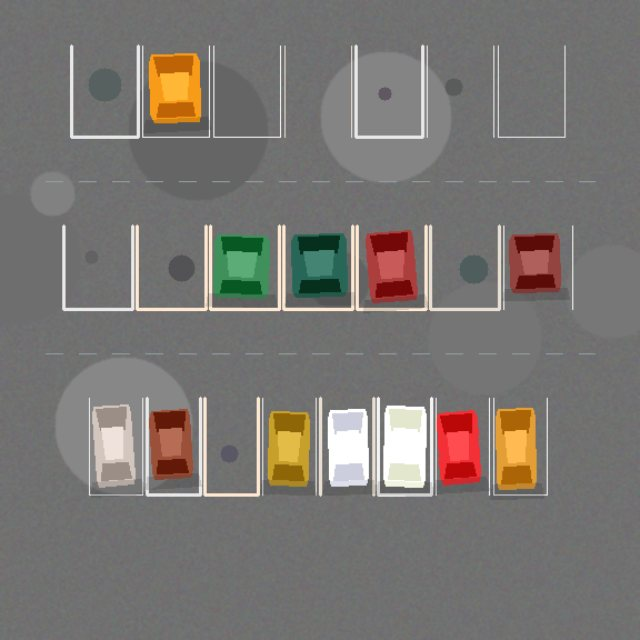space-empty: (71, 46, 138, 137), (213, 46, 280, 137), (284, 46, 351, 137), (356, 46, 422, 137), (427, 46, 493, 137), (498, 46, 564, 137), (63, 226, 132, 309), (137, 226, 206, 309), (430, 226, 499, 309), (204, 398, 258, 494)
space-occupied: (142, 46, 209, 137), (210, 226, 279, 309), (283, 226, 352, 309), (357, 226, 426, 309), (503, 226, 572, 309), (262, 398, 316, 494), (493, 398, 547, 494), (89, 398, 142, 494), (147, 398, 200, 494), (320, 398, 373, 494), (378, 398, 431, 494), (436, 398, 489, 494)
